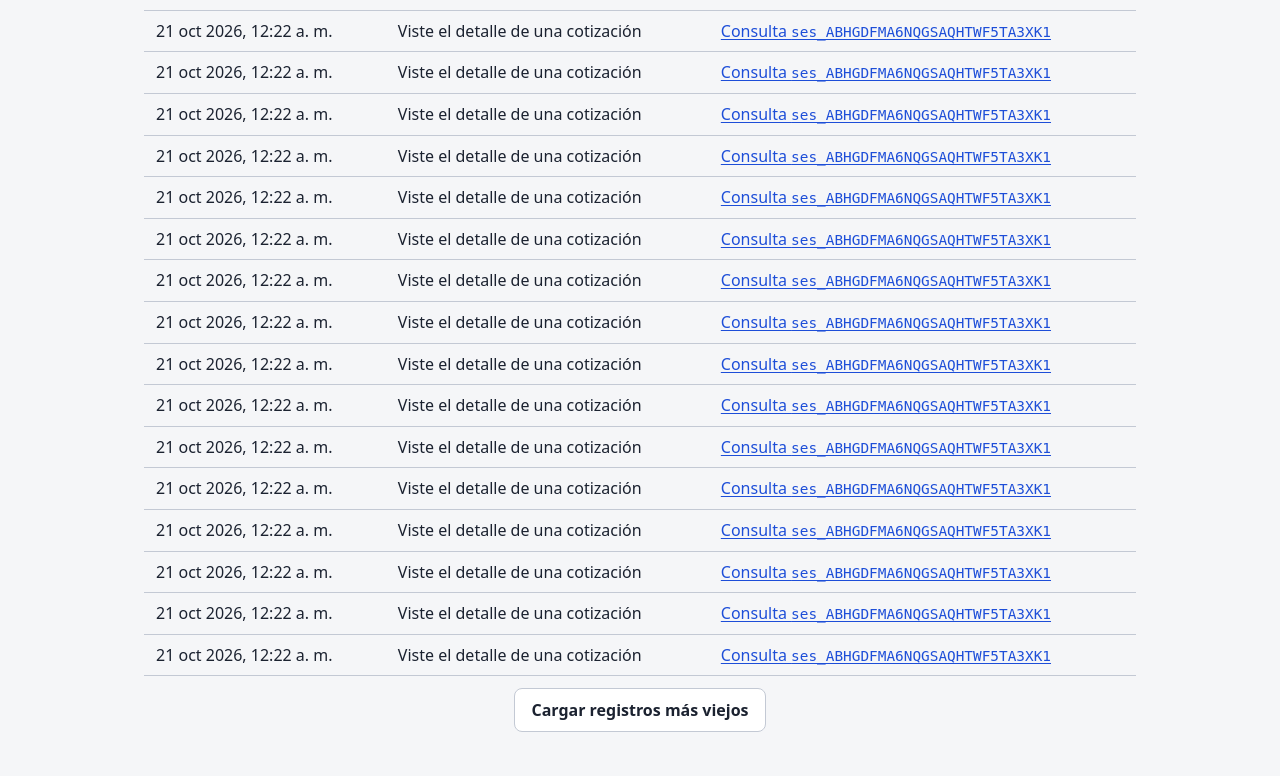
Test: Registros › pagina con "Cargar registros más viejos" y pasa el foco a la primera fila nueva
The image size is (1280, 776).
(page scrolled)
Click the button "Cargar registros más viejos" at (640, 710), box [514,688,766,732]
(page scrolled)
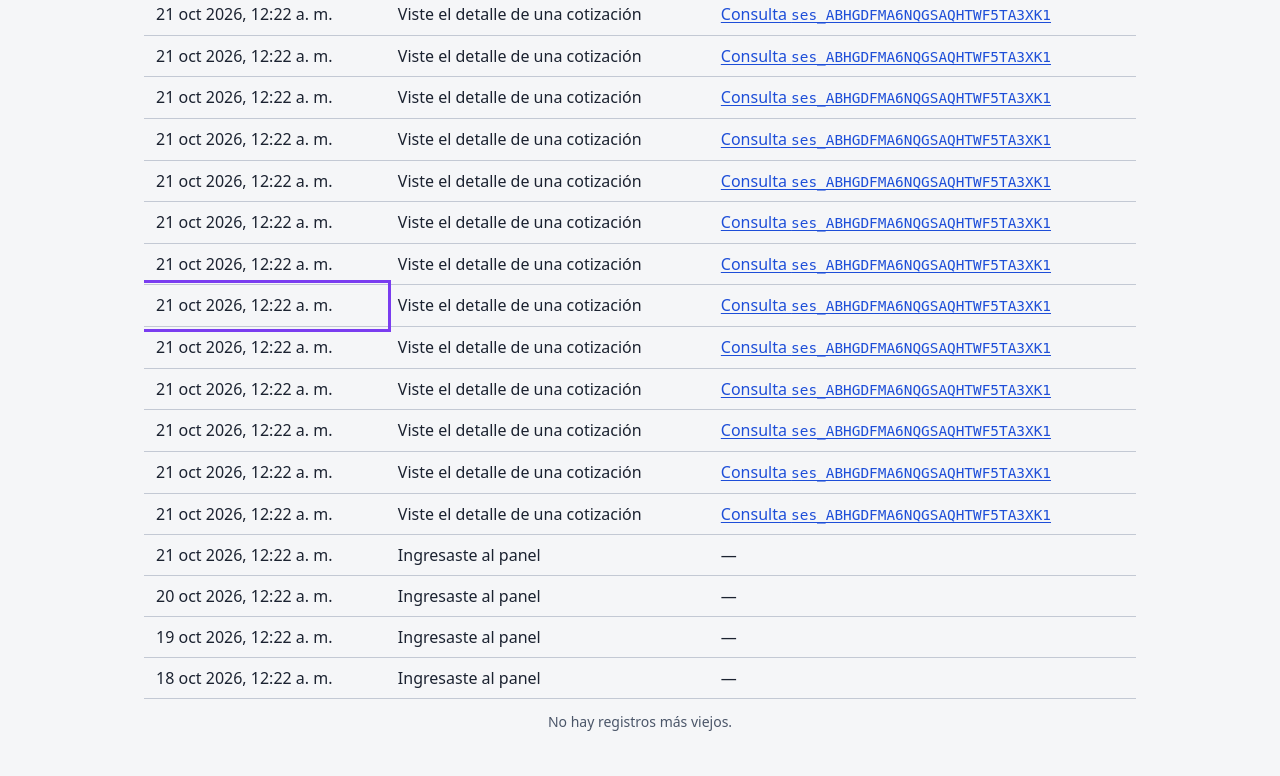
Result: the button "Cargar registros más viejos" is gone
Result: the text "No hay registros más viejos." is shown at [548,712,732,731]
